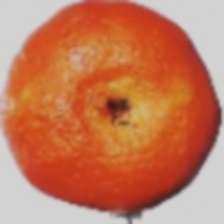tangerine: (33, 42, 209, 210)
